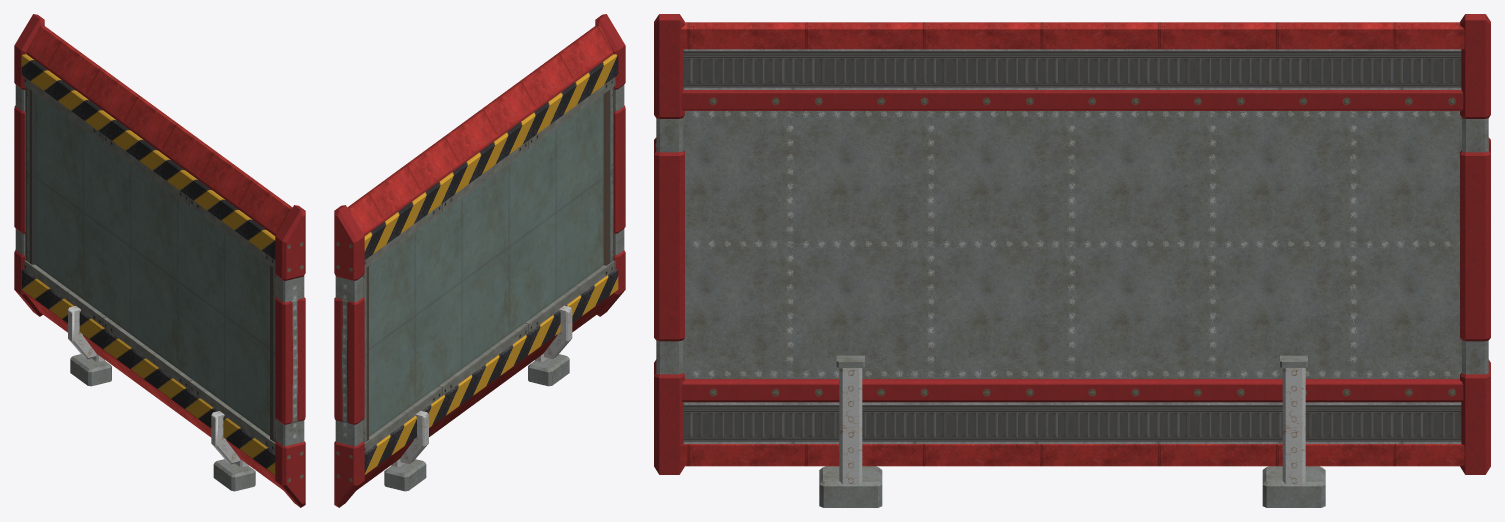
The model's file is Ob_StandingWall_RC.fbx.
3 views of the same model, side by side, from view 1: azimuth 30°, elevation 25°; view 2: azimuth 150°, elevation 25°; view 3: azimuth 270°, elevation 25° (orthographic). The views are drawn at different scales.
Parts seen in each view (by area): view 1: Ob_StandingWall_RC; view 2: Ob_StandingWall_RC; view 3: Ob_StandingWall_RC.
Boxes of the visible parts, x1,y1,x2,y2 form: Ob_StandingWall_RC: (14,14,305,507); Ob_StandingWall_RC: (334,14,625,507); Ob_StandingWall_RC: (654,14,1490,507).
Size of the model in its own units: 151 by 1351 by 2100.
